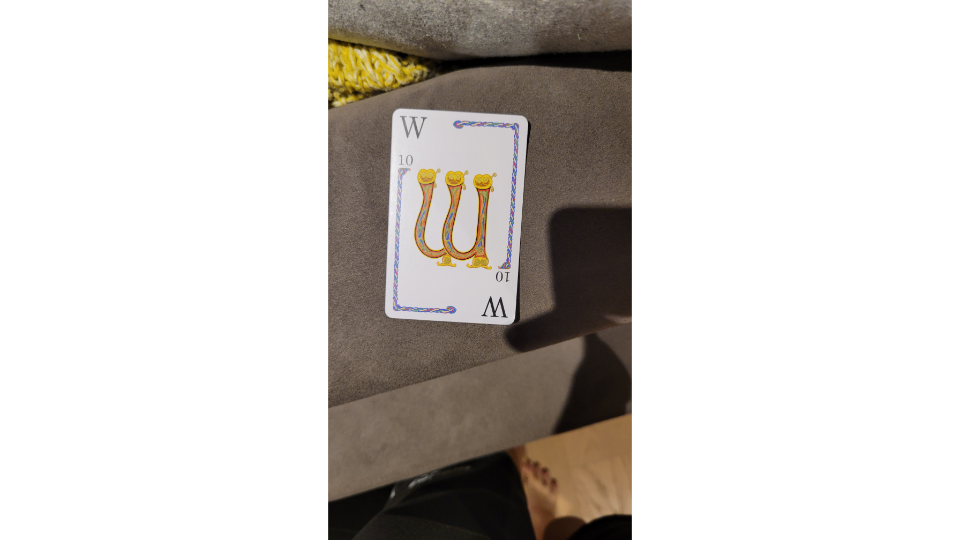W: (383, 105, 532, 328)
